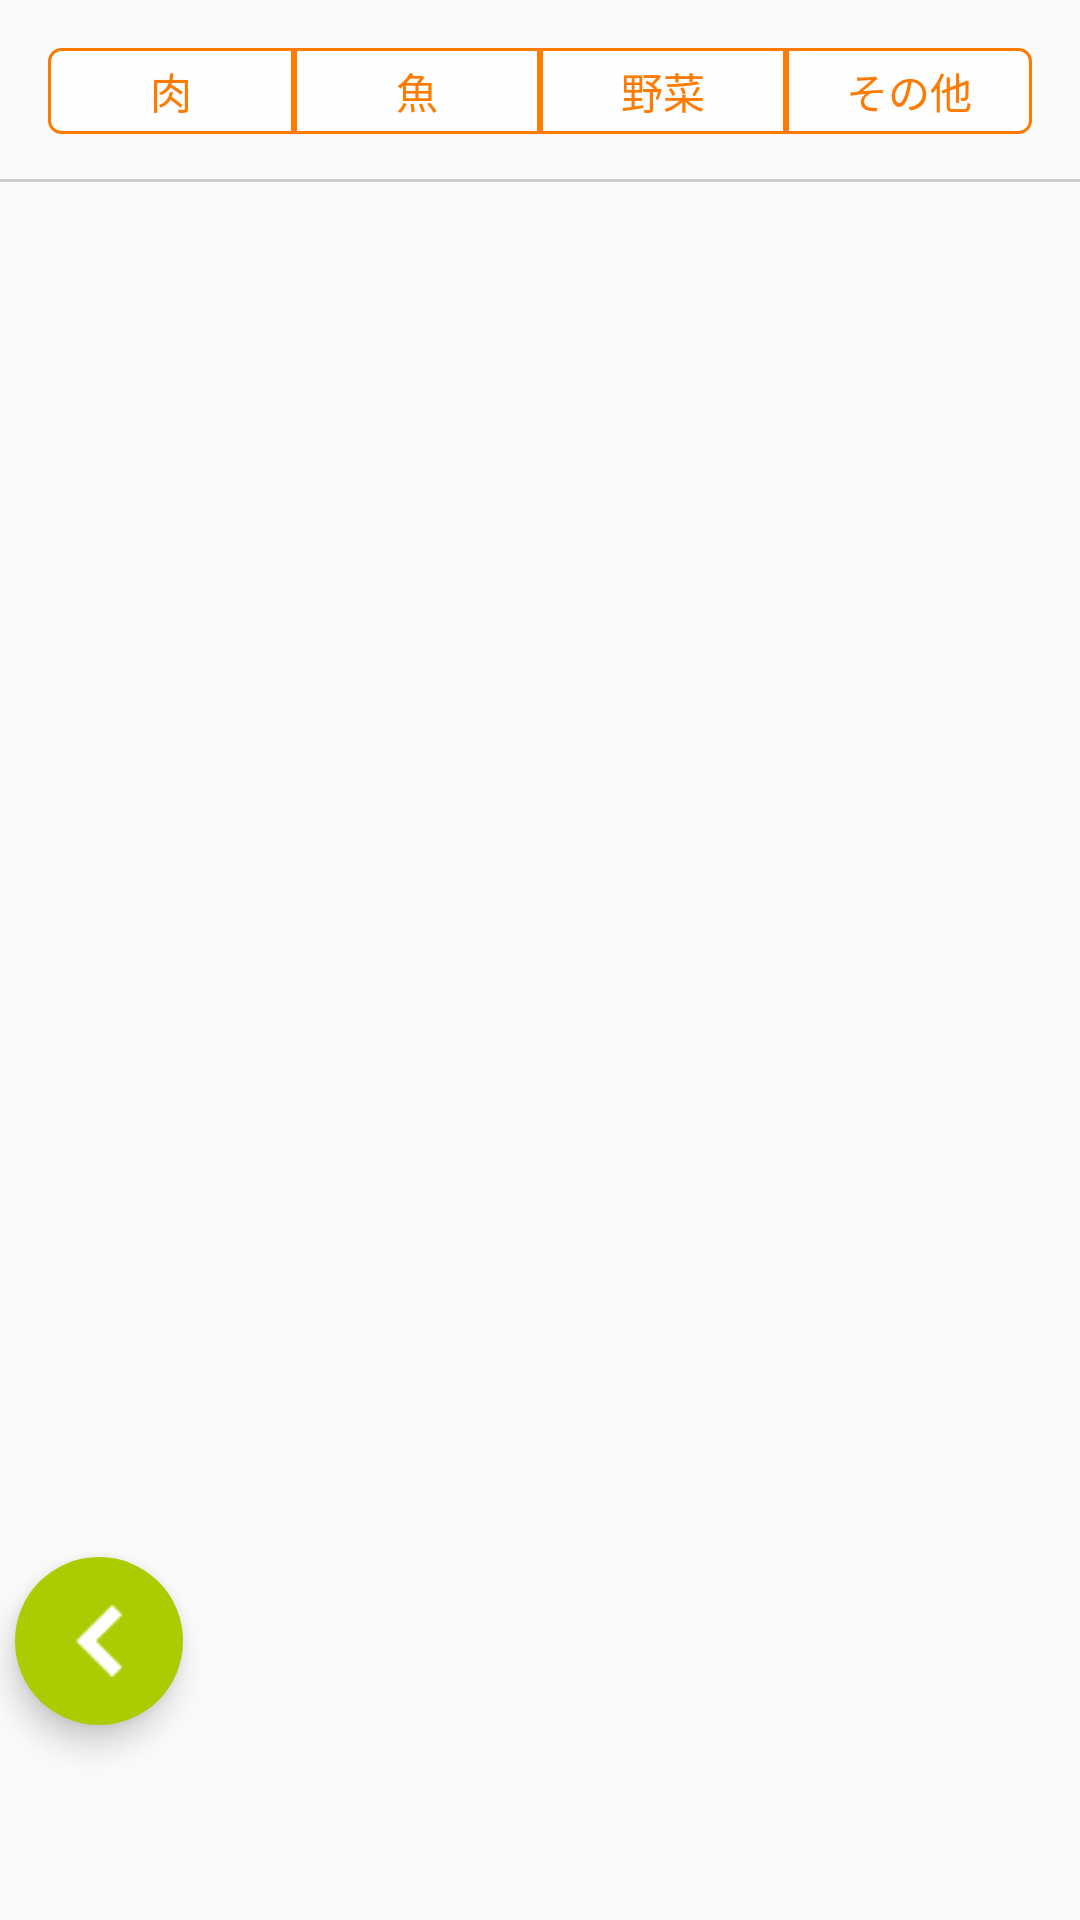

Point at icon controls on the screen. Image size 1080×1920, points as [x,y].
return: [99,1641]
